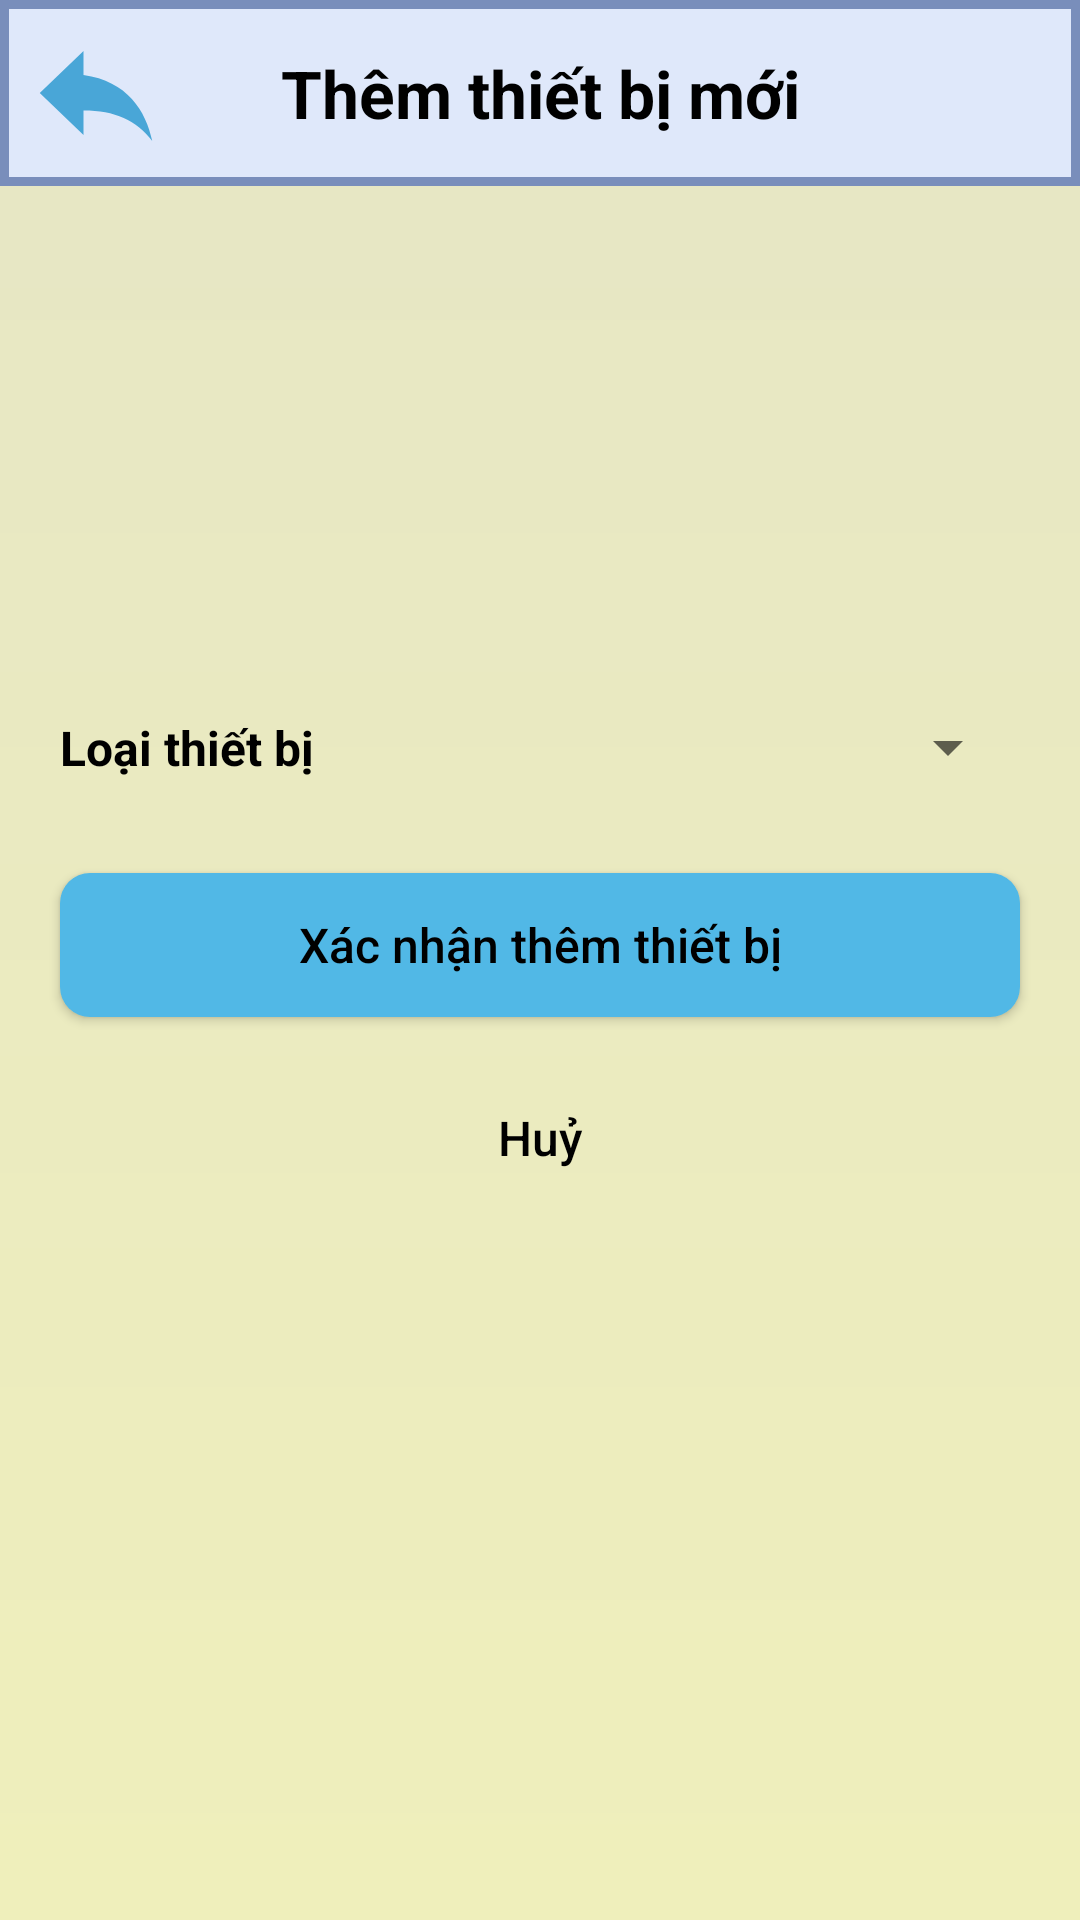

Named icons in this screenshot (1080x1920) and their centers, (x,y):
back: (96,96)
